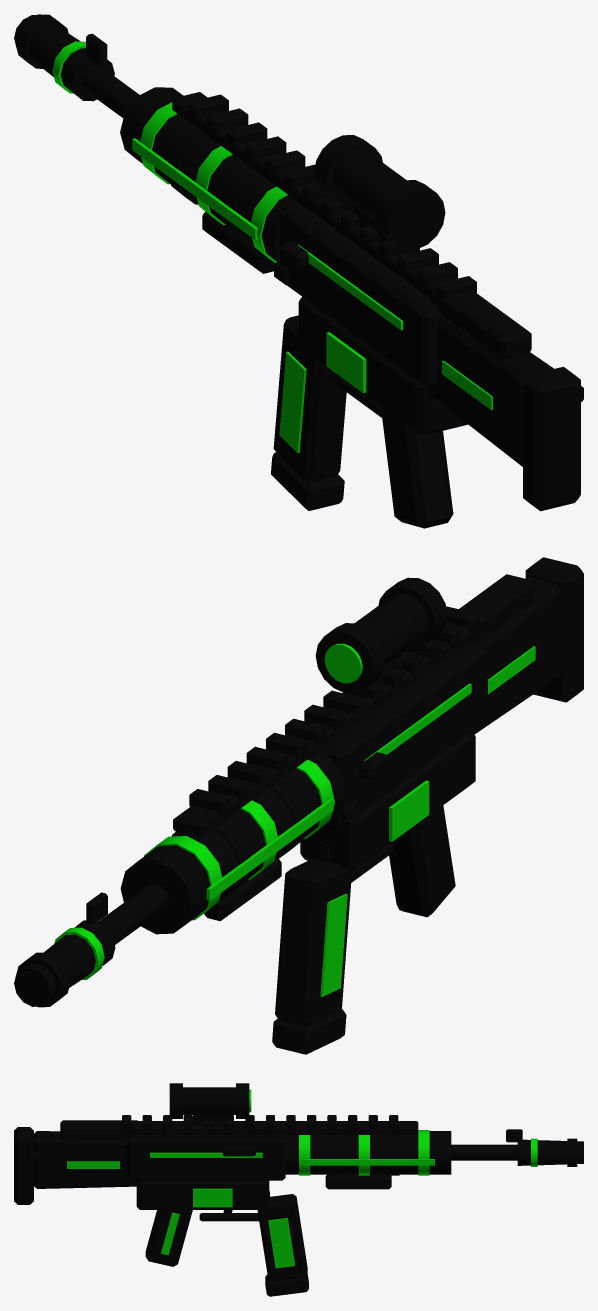
The model's file is hero_rifle.glb.
3 renders of one model, top to bottom at view 1: azimuth 30°, elevation 25°; view 2: azimuth 150°, elevation 25°; view 3: azimuth 270°, elevation 25°, orthographic. The views are drawn at different scales.
Visible parts, largest first — view 1: HeroRifle; view 2: HeroRifle; view 3: HeroRifle.
Part boxes in pixels (bbox=[...]): HeroRifle: bbox=[14, 14, 583, 528]; HeroRifle: bbox=[14, 557, 583, 1054]; HeroRifle: bbox=[14, 1083, 583, 1296].
Bounding box in the file's own units: 0.083 × 0.3463 × 0.86.
